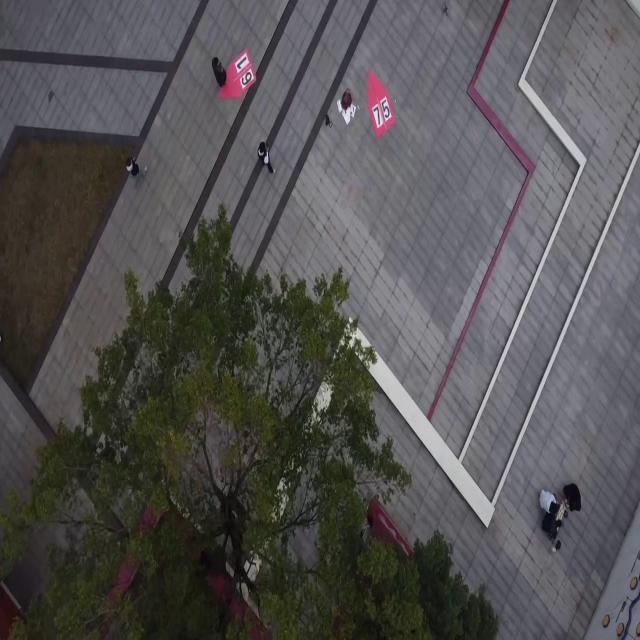-sign-: (215, 46, 261, 112), (366, 68, 396, 138)
